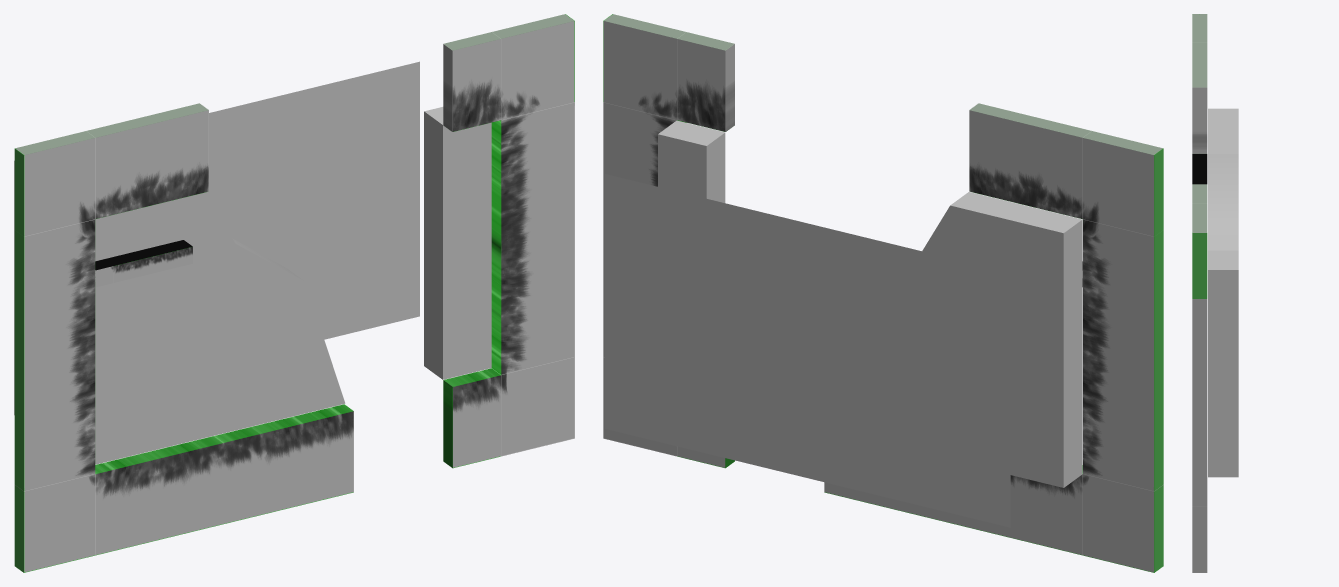
The model's file is Fild.fbx.
3 views of the same model, side by side, from view 1: azimuth 30°, elevation 25°; view 2: azimuth 150°, elevation 25°; view 3: azimuth 270°, elevation 25° (orthographic). The views are drawn at different scales.
Parts seen in each view (by area): view 1: Box051, Plane001, Plane002, Box056; view 2: Plane002, Box051, Plane001; view 3: Plane001, Box051, Box056.
Part boxes in pixels (x1,y1,x2,y2): Box051: [14, 14, 574, 572]; Plane001: [95, 107, 491, 464]; Plane002: [14, 61, 419, 415]; Box056: [95, 240, 192, 287]; Plane002: [605, 174, 1010, 527]; Box051: [603, 14, 1163, 572]; Plane001: [658, 120, 1082, 487]; Plane001: [1208, 108, 1238, 477]; Box051: [1192, 14, 1207, 572]; Box056: [1192, 154, 1207, 184].
Bounding box in the file's own units: 339 × 246 × 86.84.
